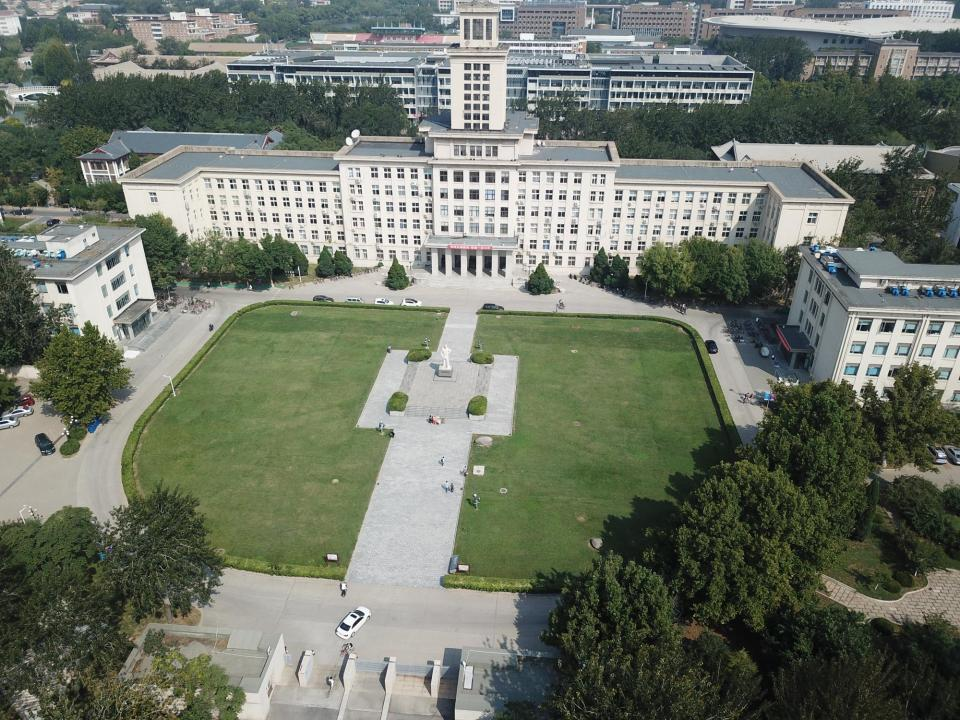car: (335, 605, 373, 643), (921, 443, 948, 465), (34, 433, 55, 455), (2, 406, 34, 420), (14, 395, 34, 409), (0, 417, 20, 429), (401, 298, 422, 308), (705, 340, 718, 354), (374, 298, 393, 307), (313, 296, 334, 304), (47, 218, 61, 227)
van: (482, 303, 504, 313), (346, 296, 364, 304)
